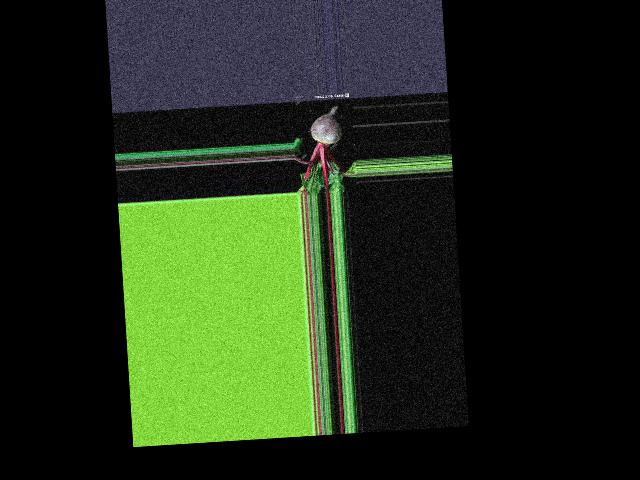beet: (291, 104, 357, 195)
